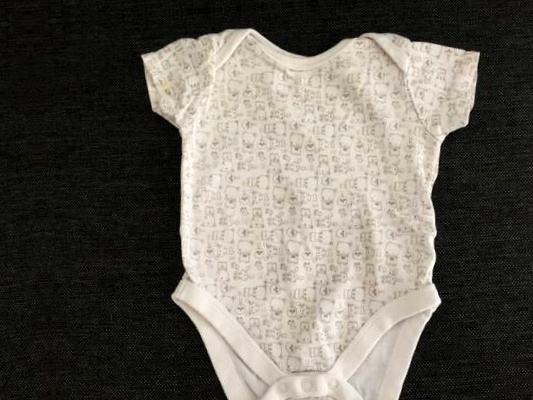Body: (124, 3, 504, 400), (96, 0, 476, 4)
